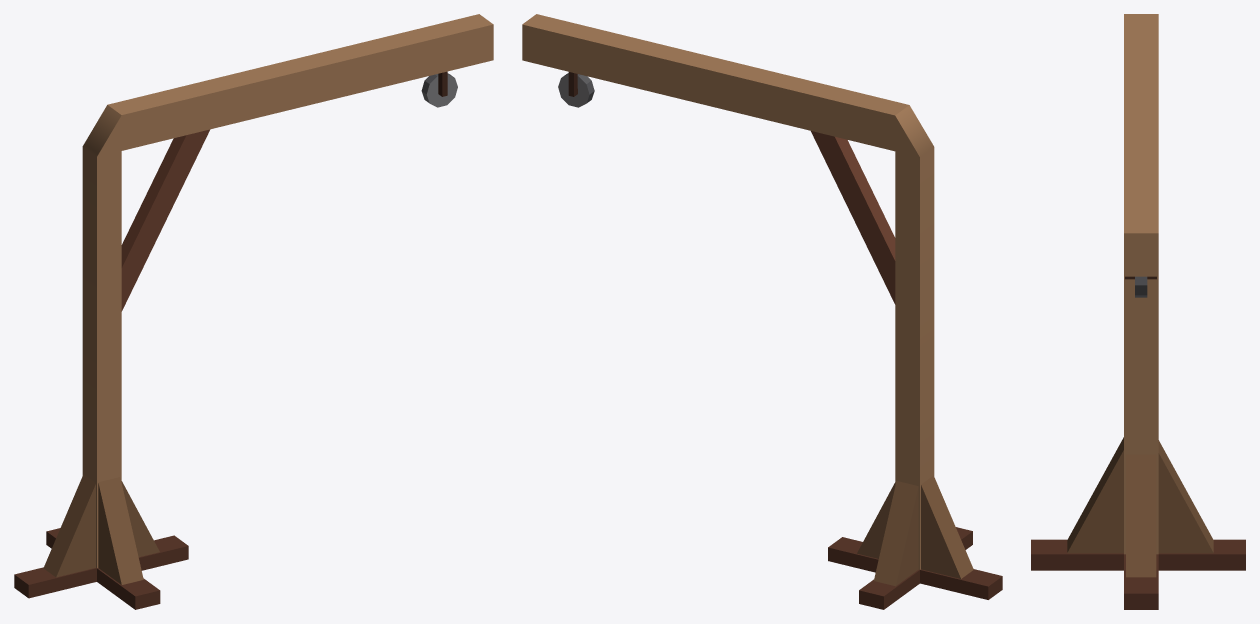
Rendered from Cosa para colgarse.fbx.
The picture shows the model from 3 angles, left to right: view 1: azimuth 30°, elevation 25°; view 2: azimuth 150°, elevation 25°; view 3: azimuth 270°, elevation 25°; orthographic projection. The views are drawn at different scales.
Parts seen in each view (by area): view 1: pCylinder16; view 2: pCylinder16; view 3: pCylinder16.
Part boxes in pixels (x1,y1,x2,y2): pCylinder16: (14,14,493,609); pCylinder16: (522,14,1002,609); pCylinder16: (1031,14,1245,609).
Bounding box in the file's own units: 5.59 × 5.29 × 1.85.
